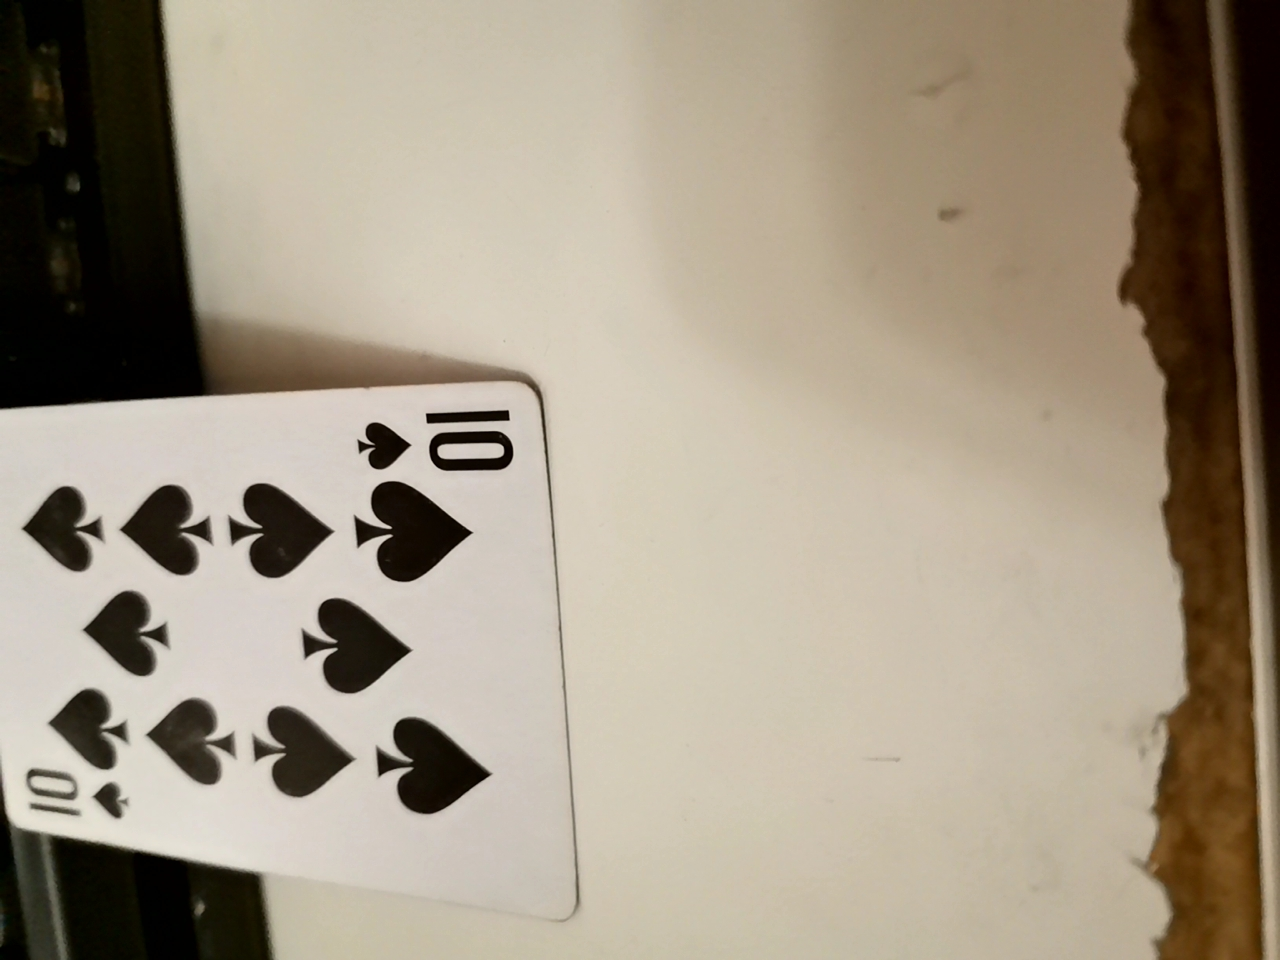ht 10: (2, 365, 562, 928)
